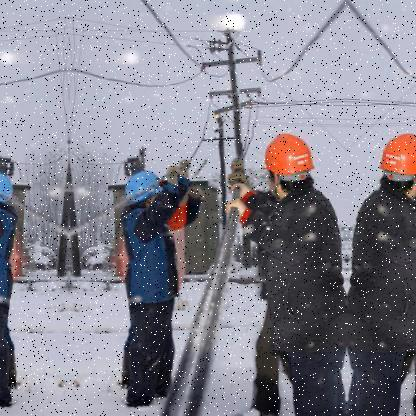Helmet: (256, 132, 321, 196), (374, 126, 415, 206), (111, 166, 176, 214), (0, 166, 23, 224)
